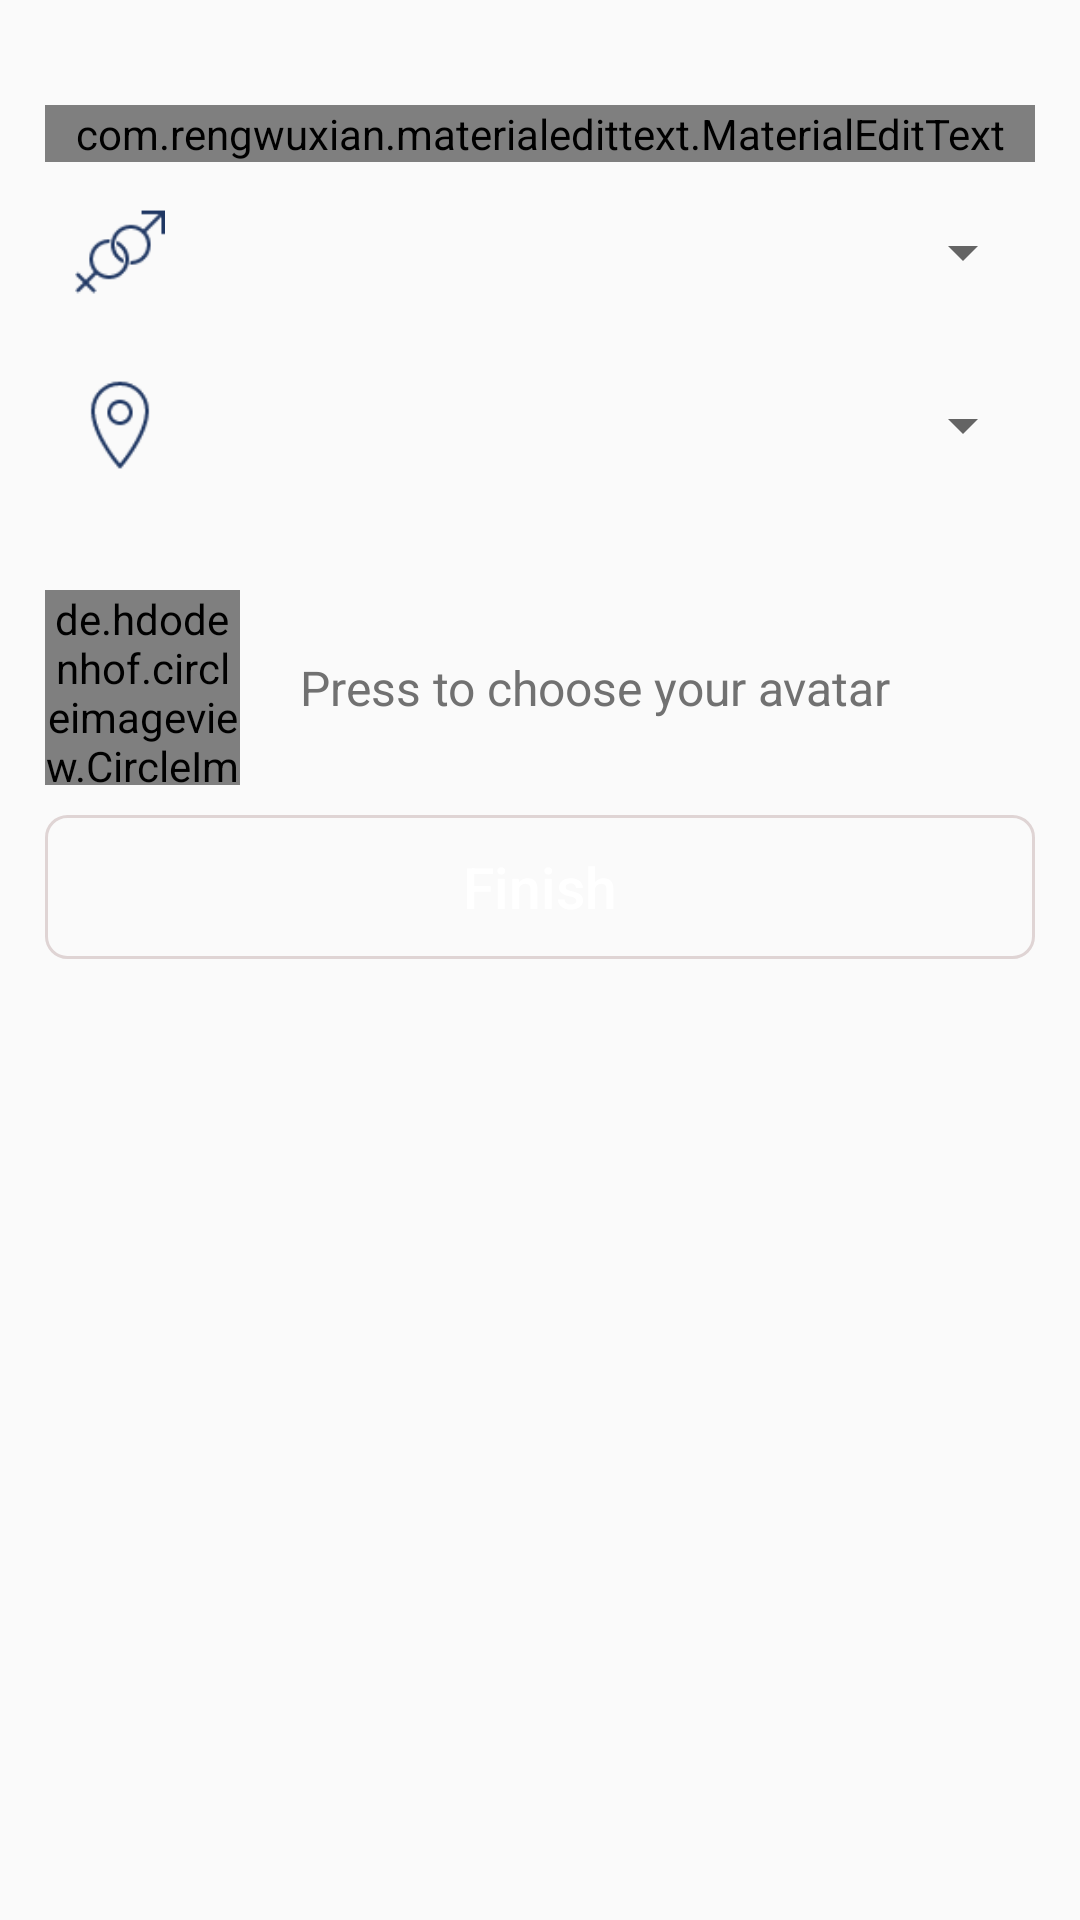

Icon bounding boxes for this 1080x1920 phone screenshot, format (x1, y1, x2, y2):
gender: (75, 210, 165, 294)
locatioin: (90, 381, 149, 469)
